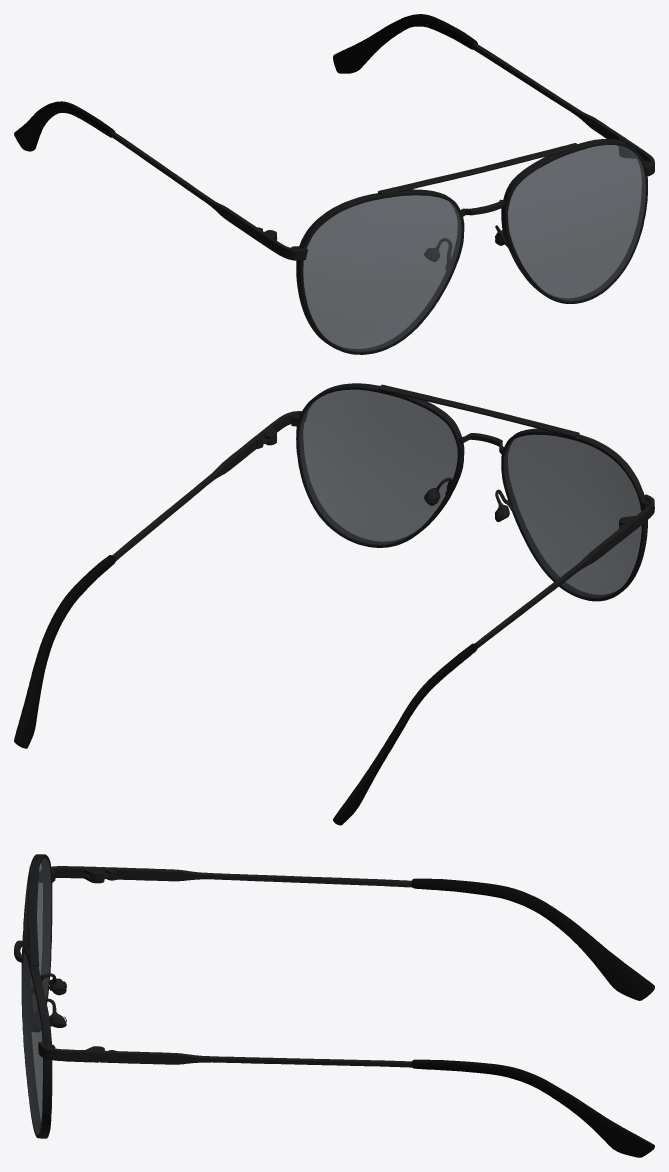
3 views of the same model, one above another, from view 1: azimuth 30°, elevation 25°; view 2: azimuth 150°, elevation 25°; view 3: azimuth 270°, elevation 25° (orthographic). The views are drawn at different scales.
Visible parts, largest first — view 1: Assets; view 2: Assets; view 3: Assets.
Boxes of the visible parts, x1,y1,x2,y2 form: Assets: [14, 14, 654, 354]; Assets: [14, 383, 654, 825]; Assets: [14, 854, 654, 1157].
Bounding box in the file's own units: 1.99 × 0.8204 × 2.91.
Materials: 4 (2 with a texture image).
